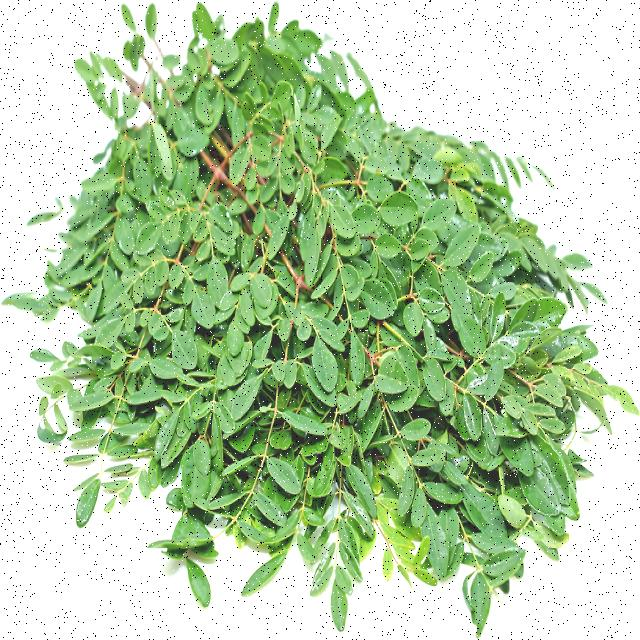Moringa Leaves: (91, 106, 599, 530)
